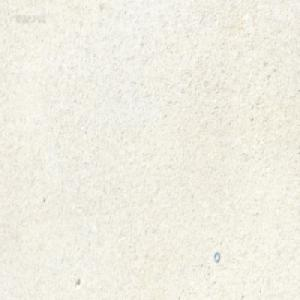Washer: (213, 251, 219, 262)
